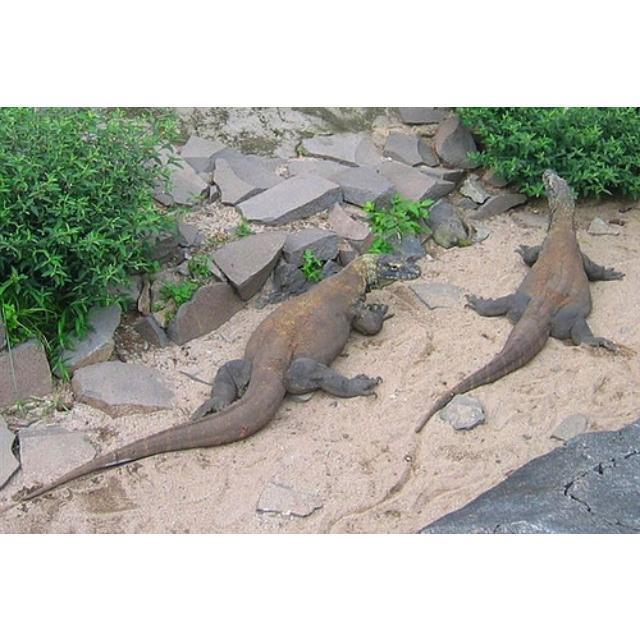KomodoDragon: (11, 252, 396, 508), (411, 166, 635, 433)
